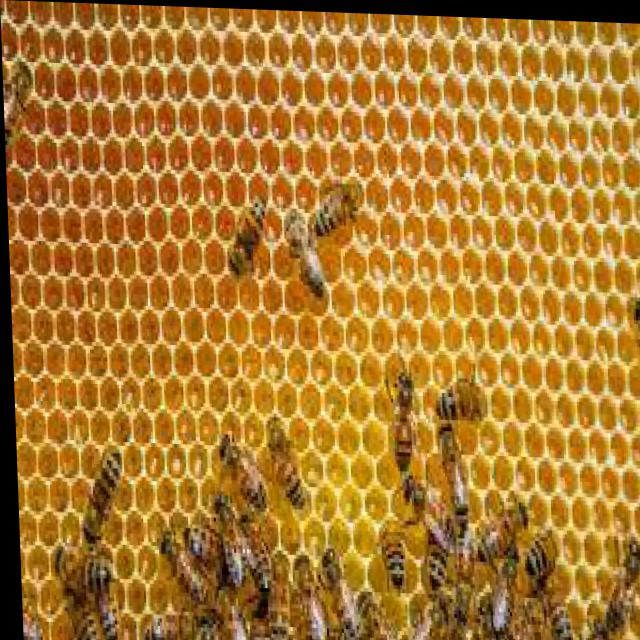Abeille: (71, 436, 124, 550), (307, 157, 364, 250), (373, 353, 418, 470), (218, 178, 271, 277), (155, 518, 210, 603), (311, 543, 359, 638), (416, 494, 458, 600), (474, 478, 530, 554), (216, 426, 263, 511), (54, 540, 118, 596), (370, 506, 409, 597), (434, 357, 482, 427), (256, 536, 287, 636), (59, 565, 89, 638), (89, 570, 118, 639)
